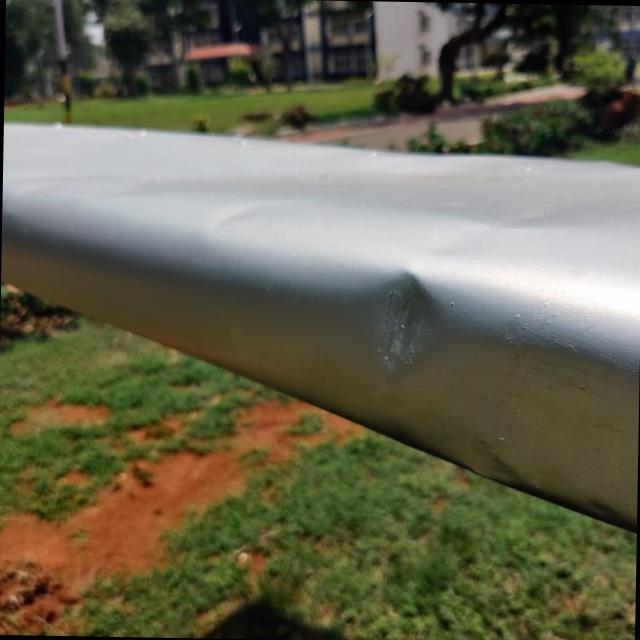dent: (362, 270, 436, 374)
